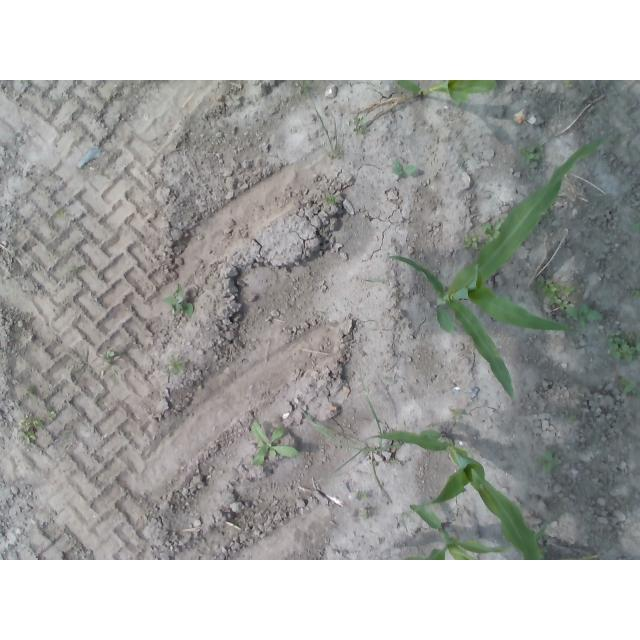Maize: (387, 139, 604, 398), (363, 429, 541, 560), (400, 505, 549, 560), (395, 80, 497, 101)
Weeds: (301, 370, 396, 505), (530, 276, 604, 328), (250, 421, 298, 467), (604, 330, 640, 362), (162, 283, 194, 318), (18, 416, 45, 444), (519, 140, 548, 164), (482, 218, 507, 243), (535, 451, 559, 473), (391, 160, 418, 177), (619, 378, 640, 397), (353, 116, 371, 135), (464, 234, 481, 250), (360, 505, 378, 520), (295, 80, 313, 94), (169, 361, 184, 375), (630, 212, 640, 233), (450, 408, 462, 420), (542, 209, 554, 220), (537, 547, 549, 558), (47, 406, 58, 418), (326, 195, 339, 205), (357, 491, 368, 501), (610, 133, 619, 143), (29, 386, 36, 398), (631, 288, 640, 297), (55, 209, 65, 217), (563, 80, 573, 88), (105, 350, 115, 358), (68, 266, 77, 274)
